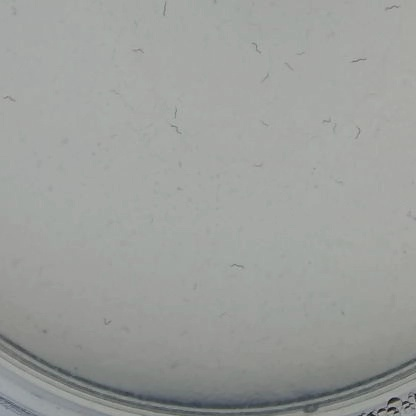worm: (379, 0, 400, 23), (3, 3, 21, 27), (163, 122, 184, 141), (225, 261, 248, 275), (165, 104, 184, 120), (347, 54, 368, 68), (159, 0, 174, 19), (97, 317, 117, 331), (349, 124, 365, 141), (0, 94, 18, 106), (247, 161, 268, 171), (282, 59, 296, 74), (258, 70, 272, 85), (403, 210, 416, 225), (321, 113, 334, 127), (333, 176, 347, 188), (295, 47, 313, 56), (133, 43, 145, 55), (329, 123, 340, 136), (259, 118, 273, 128), (107, 88, 123, 96)
